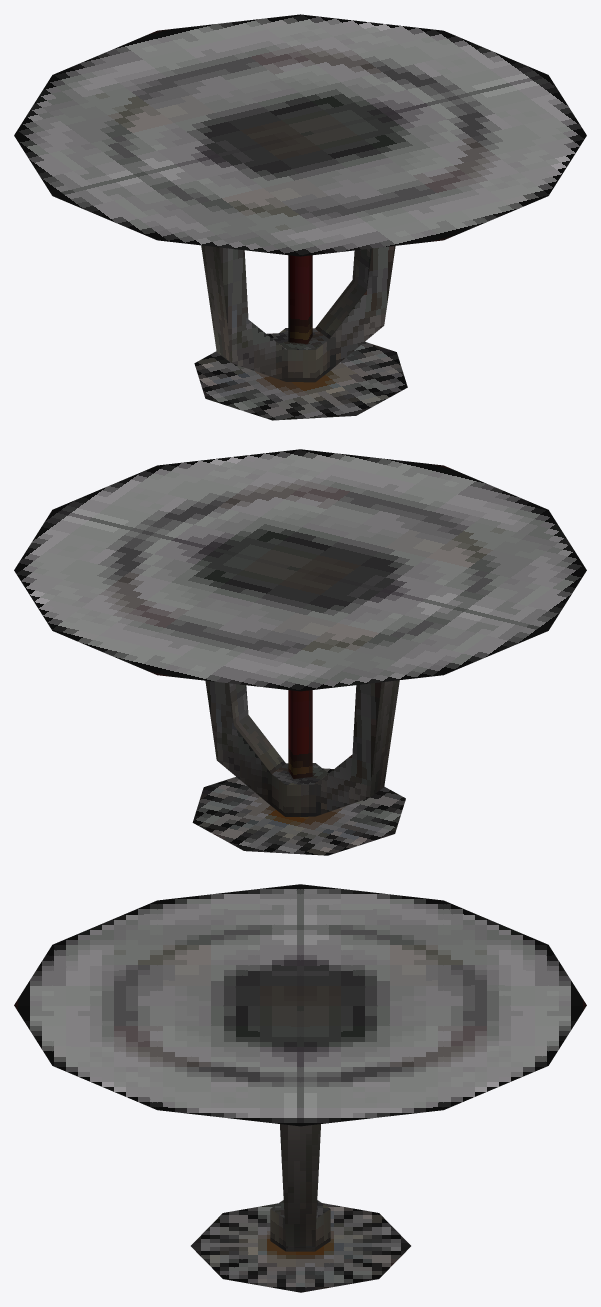
The model's file is p_rus_fire_sprnklr_lod0.glb.
The picture shows the model from 3 angles, top to bottom: view 1: azimuth 30°, elevation 25°; view 2: azimuth 150°, elevation 25°; view 3: azimuth 270°, elevation 25°; orthographic projection.
Parts seen in each view (by area): view 1: surf0; view 2: surf0; view 3: surf0.
Boxes of the visible parts, x1,y1,x2,y2 form: surf0: (14, 14, 586, 420); surf0: (14, 449, 586, 855); surf0: (14, 884, 586, 1292).
Bounding box in the file's own units: 8.58 × 3.97 × 8.58.
